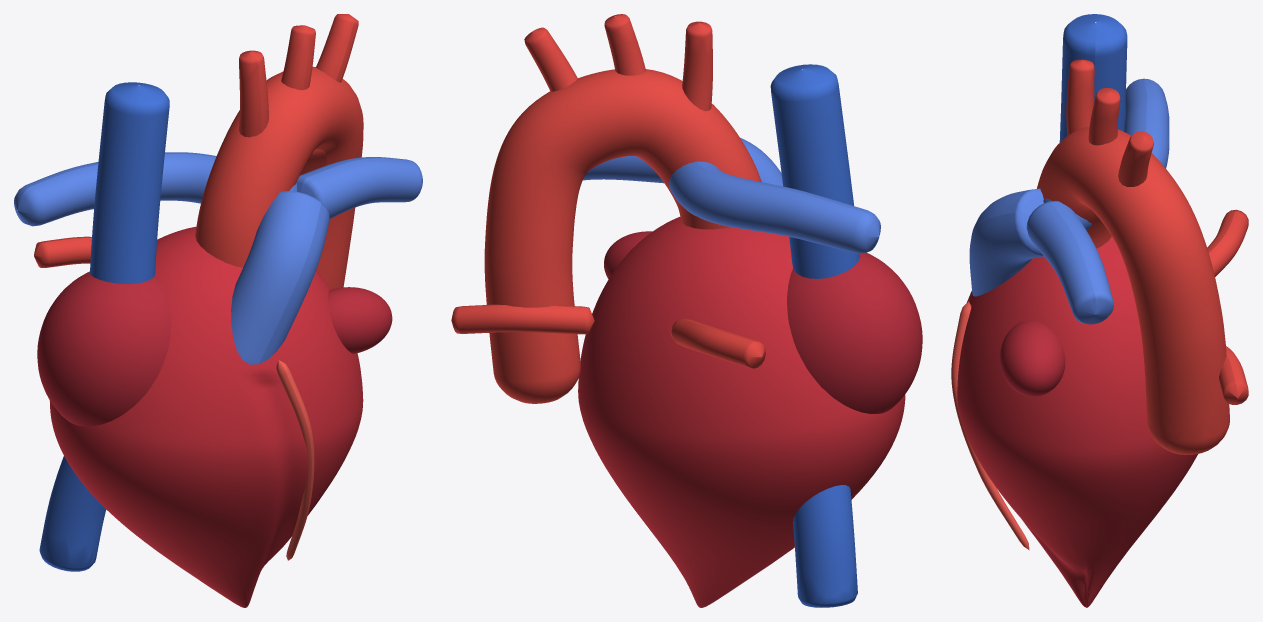
The model's file is cardiovascular.glb.
The picture shows the model from 3 angles, left to right: view 1: azimuth 30°, elevation 25°; view 2: azimuth 150°, elevation 25°; view 3: azimuth 270°, elevation 25°; orthographic projection. The views are drawn at different scales.
Parts seen in each view (by area): view 1: ventriculos, coracao, aorta, atrio_direito, veia_cava_sup, tronco_pulmonar, veia_cava_inf, atrio_esquerdo, coronaria; view 2: ventriculos, aorta, coracao, atrio_direito, veia_cava_sup, veia_cava_inf, atrio_esquerdo, tronco_pulmonar; view 3: ventriculos, aorta, coracao, tronco_pulmonar, veia_cava_sup, atrio_esquerdo, coronaria.
Part boxes in pixels (x1,y1,x2,y2): ventriculos: (49,226,363,607); coracao: (14,14,422,267); aorta: (195,66,363,289); atrio_direito: (37,271,171,426); veia_cava_sup: (90,82,169,283); tronco_pulmonar: (231,191,329,364); veia_cava_inf: (39,456,106,571); atrio_esquerdo: (328,287,392,353); coronaria: (276,360,314,560); ventriculos: (578,217,905,607); aorta: (484,69,761,403); coracao: (451,14,880,368); atrio_direito: (787,252,922,413); veia_cava_sup: (770,64,859,278); veia_cava_inf: (793,485,857,607); atrio_esquerdo: (604,231,652,279); tronco_pulmonar: (740,137,782,186); ventriculos: (957,236,1197,607); aorta: (1037,126,1229,454); coracao: (1026,59,1248,404); tronco_pulmonar: (969,188,1043,296); veia_cava_sup: (1059,14,1127,142); atrio_esquerdo: (1000,320,1065,396); coronaria: (951,301,1029,550).
Size of the model in its own units: 0.1104 by 0.1564 by 0.0767.
